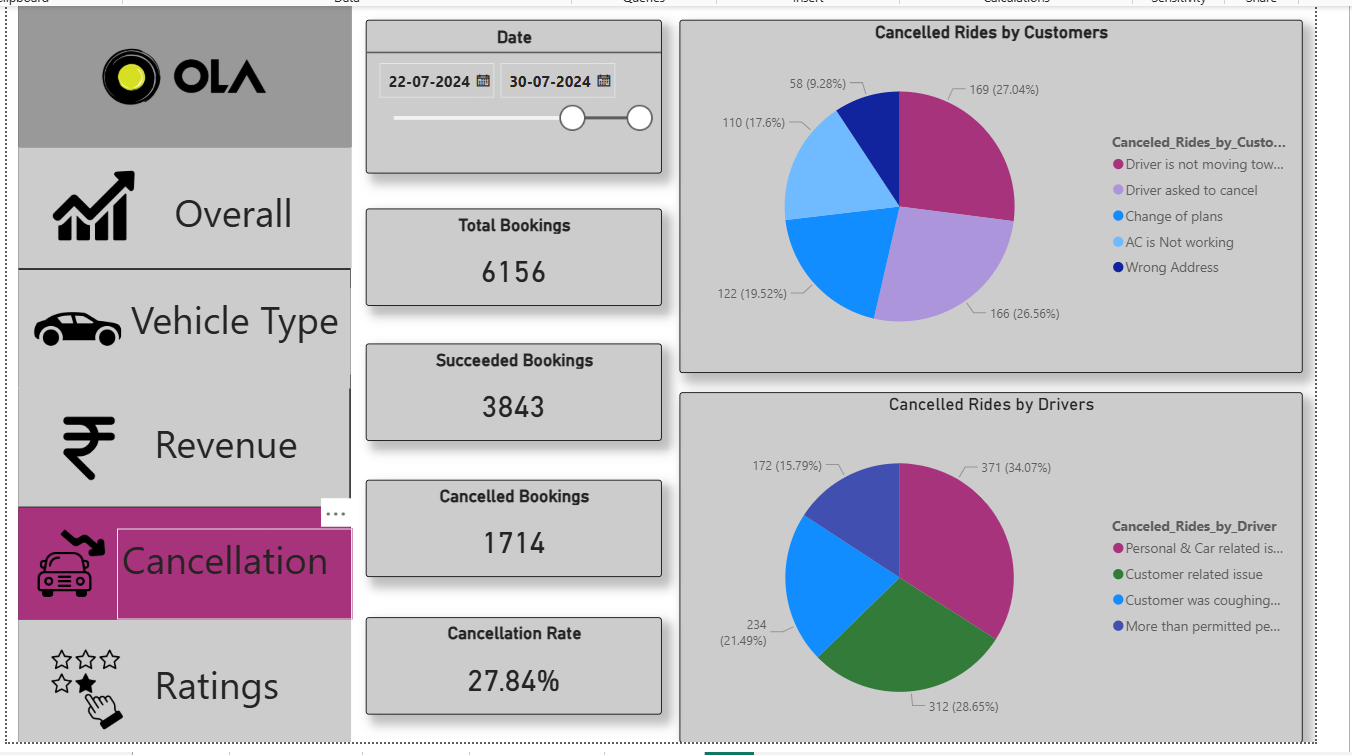

Layout of this report page (visuals, bound fields, positions):
{"tool":"powerbi","page":{"name":"Cancellation","canvas":[1280,720],"ordinal":3},"visuals":[{"type":"shape","box":[11,0,325.3,720.2],"z":0},{"type":"shape","box":[11,0,326.5,138.2],"z":1000},{"type":"image","box":[11.4,0,324.3,138.6],"z":2000},{"type":"shape","box":[11.2,138.8,326.2,118.8],"z":3000},{"type":"textbox","box":[158.8,171.2,167.5,63.8],"z":4000},{"type":"shape","box":[11.2,257.5,325,116.2],"z":5000},{"type":"textbox","box":[116.2,276.2,220,83.8],"z":6000},{"type":"shape","box":[11.4,372.9,324.3,117.1],"z":7000},{"type":"textbox","box":[140,397.5,186.2,80],"z":8000},{"type":"image","box":[21.2,386.2,115,92.5],"z":9000},{"type":"shape","box":[11.2,490,325,110],"z":10000},{"type":"shape","box":[11.4,600,325.7,120],"z":11000},{"type":"textbox","box":[107.5,511.2,230,88.8],"z":12000},{"type":"image","box":[3.8,510,118.8,70],"z":13000},{"type":"textbox","box":[140,633.8,177.5,86.2],"z":14000},{"type":"image","box":[21.2,628.8,115,80],"z":15000},{"type":"image","box":[21.2,155,127.5,80],"z":16000},{"type":"image","box":[16.2,271.2,106.2,88.8],"z":17000},{"type":"actionButton","box":[9.8,258,325.3,119.8],"z":18000},{"type":"actionButton","box":[11,377.9,324.1,77],"z":19000},{"type":"actionButton","box":[11,597.7,324.1,122.3],"z":20000},{"type":"actionButton","box":[12.2,145.5,324.1,96.6],"z":21000},{"type":"pieChart","title":"Cancelled Rides by Customers","fields":{"Category":["Bookings csv.Canceled_Rides_by_Customer"],"Y":["CountNonNull(Bookings csv.Canceled_Rides_by_Driver)"]},"box":[657.3,13.7,609.3,345.8],"z":21001},{"type":"pieChart","title":"Cancelled Rides by Drivers","fields":{"Category":["Bookings csv.Canceled_Rides_by_Driver"],"Y":["CountNonNull(Bookings csv.Canceled_Rides_by_Driver)"]},"box":[657.3,377.4,609.3,343.1],"z":21002},{"type":"slicer","title":"Date","fields":{"Values":["Bookings csv.Date"]},"box":[350.5,13,289.7,150.6],"z":21003},{"type":"card","title":"Total Bookings","fields":{"Values":["CountNonNull(Bookings csv.Booking_ID)"]},"box":[350.5,198.4,289.7,95.6],"z":21004},{"type":"card","title":"Succeeded Bookings","fields":{"Values":["CountNonNull(Bookings csv.Booking_ID)"]},"box":[350.5,330.2,289.7,95.6],"z":21005},{"type":"card","title":"Cancelled Bookings","fields":{"Values":["CountNonNull(Bookings csv.Booking_ID)"]},"box":[350.5,463.5,289.7,95.6],"z":21006},{"type":"card","title":"Cancellation Rate","fields":{"Values":["Bookings csv.CanceledPercentage"]},"box":[350.5,598.1,289.7,95.6],"z":21007}]}

Visuals, with their boxes on the page's 1280x720 design canvas (x1, y1, x2, y2). These are canvas units, not pixel positions in the 1352x755 screenshot, which may show the page scaled, cropped or inside an application window:
shape: rect(11, 0, 336, 720)
shape: rect(11, 0, 338, 138)
image: rect(11, 0, 336, 139)
shape: rect(11, 139, 337, 258)
textbox: rect(159, 171, 326, 235)
shape: rect(11, 258, 336, 374)
textbox: rect(116, 276, 336, 360)
shape: rect(11, 373, 336, 490)
textbox: rect(140, 398, 326, 478)
image: rect(21, 386, 136, 479)
shape: rect(11, 490, 336, 600)
shape: rect(11, 600, 337, 720)
textbox: rect(108, 511, 338, 600)
image: rect(4, 510, 123, 580)
textbox: rect(140, 634, 318, 720)
image: rect(21, 629, 136, 709)
image: rect(21, 155, 149, 235)
image: rect(16, 271, 122, 360)
actionButton: rect(10, 258, 335, 378)
actionButton: rect(11, 378, 335, 455)
actionButton: rect(11, 598, 335, 720)
actionButton: rect(12, 146, 336, 242)
"Cancelled Rides by Customers" pieChart: rect(657, 14, 1267, 360)
"Cancelled Rides by Drivers" pieChart: rect(657, 377, 1267, 720)
"Date" slicer: rect(350, 13, 640, 164)
"Total Bookings" card: rect(350, 198, 640, 294)
"Succeeded Bookings" card: rect(350, 330, 640, 426)
"Cancelled Bookings" card: rect(350, 464, 640, 559)
"Cancellation Rate" card: rect(350, 598, 640, 694)
